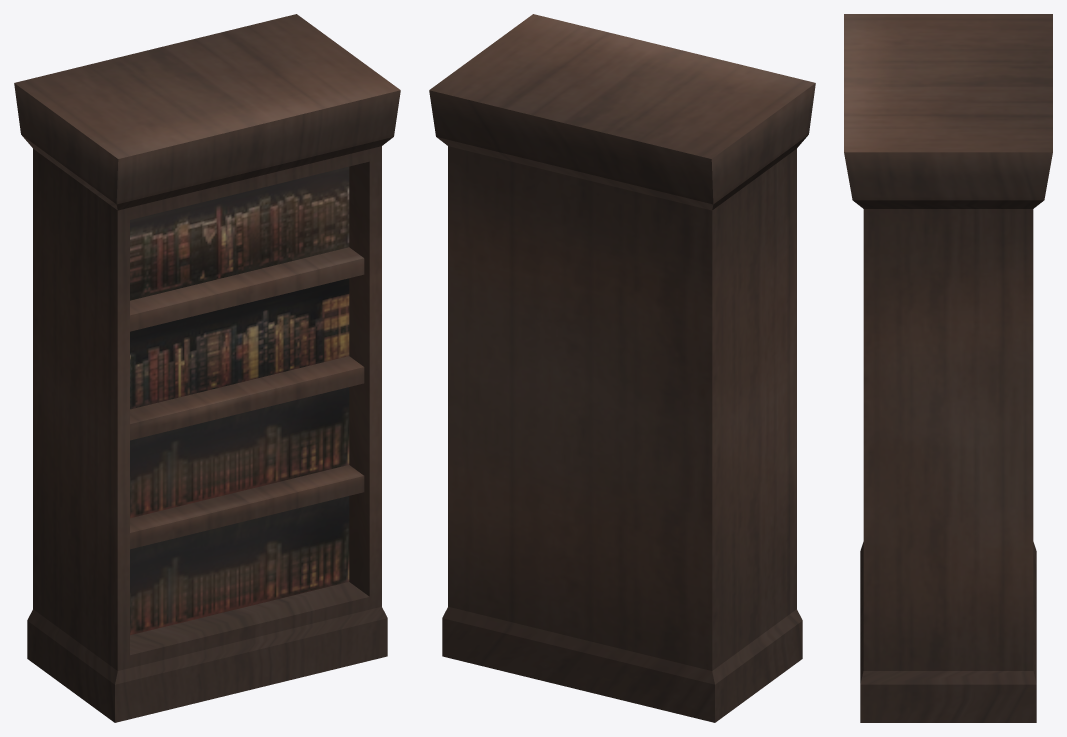
Rendered from BgMD_Tanihira_KyoujuBookshelf3_0601.fbx.
The picture shows the model from 3 angles, left to right: view 1: azimuth 30°, elevation 25°; view 2: azimuth 150°, elevation 25°; view 3: azimuth 270°, elevation 25°; orthographic projection.
Parts seen in each view (by area): view 1: pCube56; view 2: pCube56; view 3: pCube56.
Boxes of the visible parts, x1,y1,x2,y2 form: pCube56: (14, 14, 400, 722); pCube56: (429, 14, 815, 722); pCube56: (844, 14, 1052, 722).
Bounding box in the file's own units: 96.33 × 186 × 61.48.
